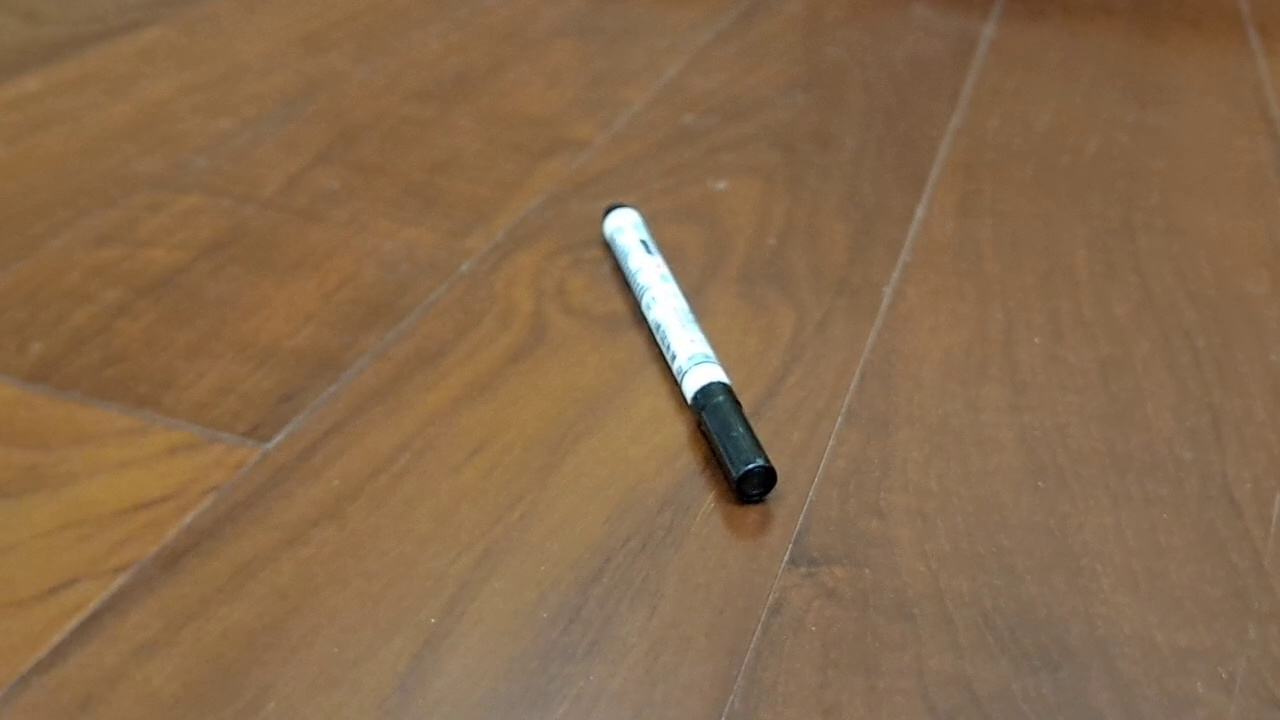pen: (600, 200, 778, 504)
